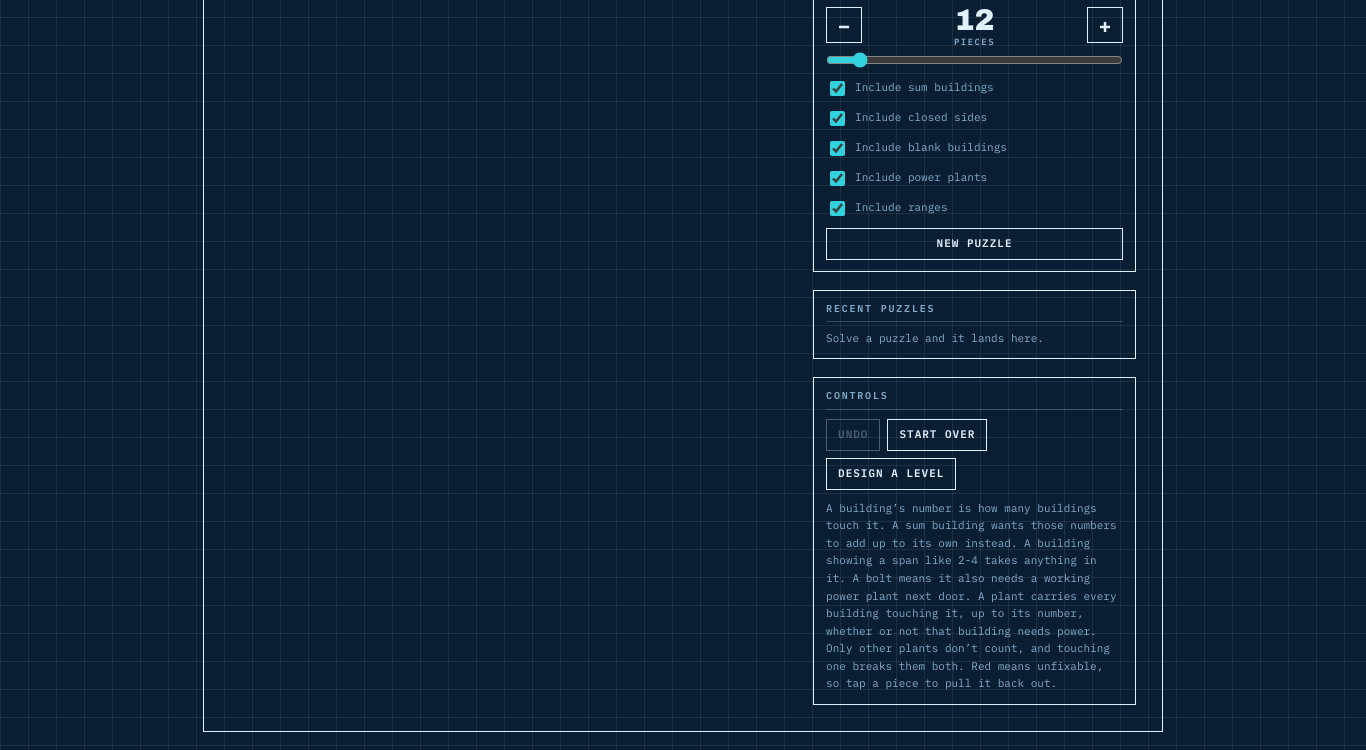
Test: App › says what the tool out in the designer does
(page scrolled)
Step 1. Click the button "Design a level" → {"x": 891, "y": 474}, box [826,458,956,490]
(page scrolled)
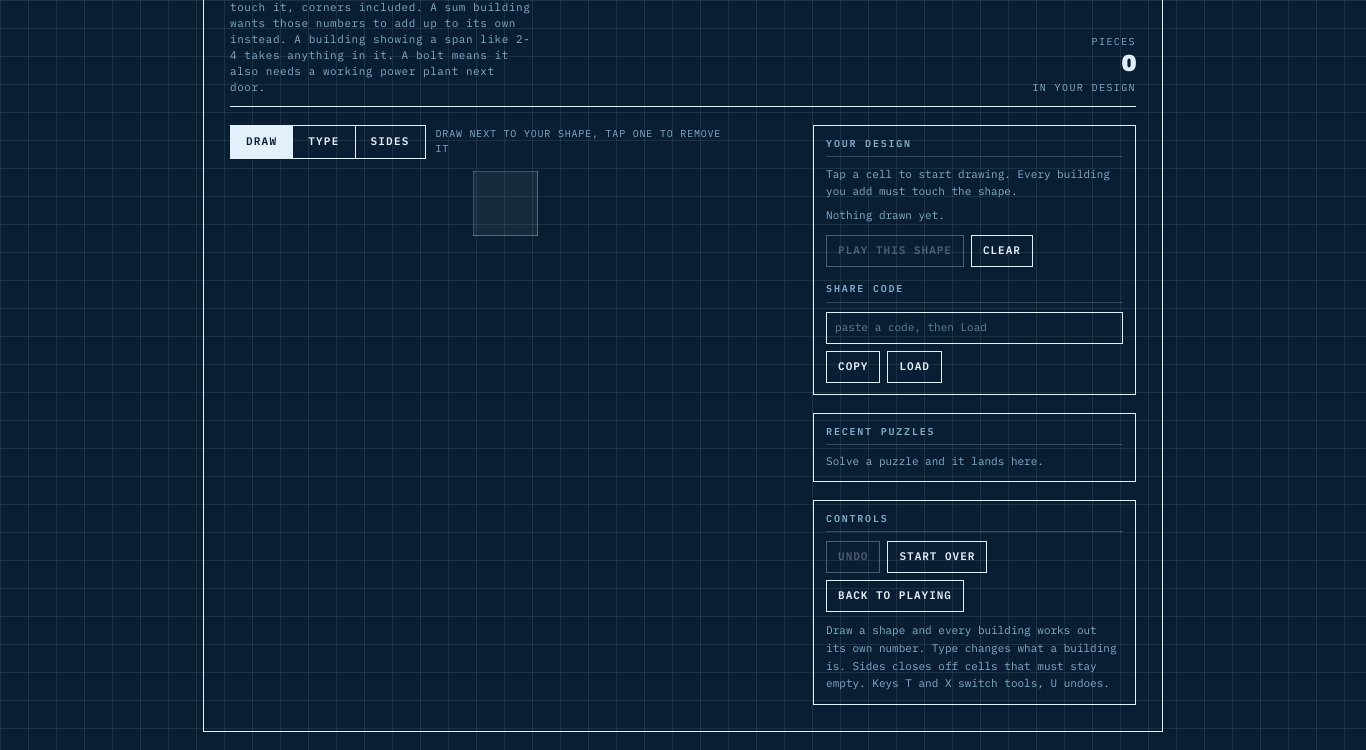
Expected: the text "Draw next to your shape, tap one to remove it" is shown, [436,127,723,156]
Step 2. Click the button "Type" → {"x": 323, "y": 142}, box [292,126,355,158]
(page scrolled)
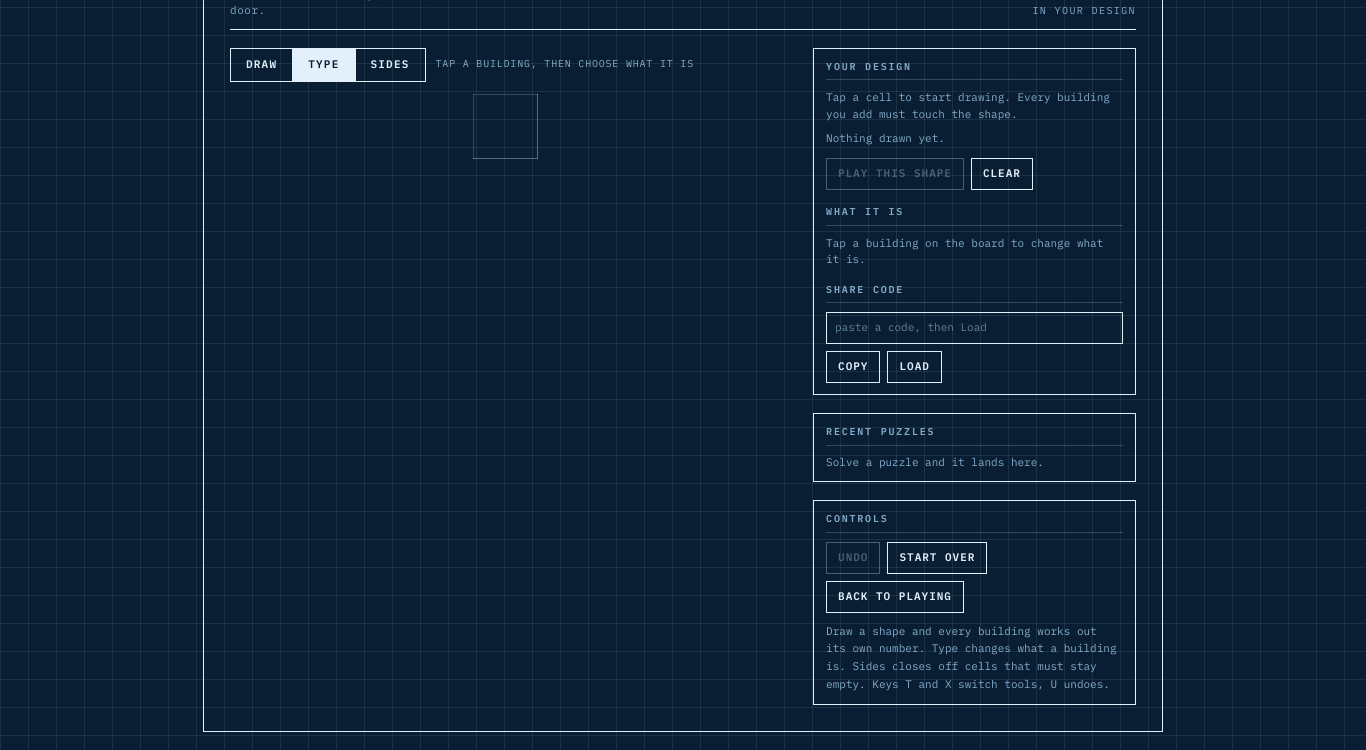
Expected: the text "Tap a building, then choose what it is" is shown, [436,58,723,72]
